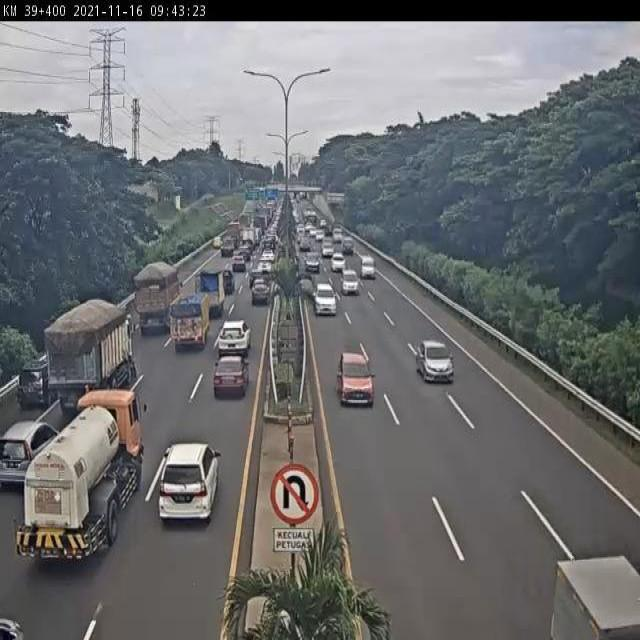car: (540, 536, 640, 640), (156, 439, 225, 525), (0, 403, 58, 489), (10, 344, 64, 417), (204, 348, 253, 408), (208, 317, 254, 373), (337, 350, 375, 410), (414, 340, 457, 388), (245, 276, 275, 316), (310, 276, 339, 317), (0, 598, 23, 640), (340, 263, 362, 301), (355, 252, 381, 284), (219, 264, 240, 296), (246, 267, 267, 293), (301, 248, 323, 272), (229, 251, 248, 276), (330, 251, 348, 276), (206, 231, 226, 252), (257, 260, 275, 281)
small truck: (169, 292, 213, 355), (193, 268, 231, 324)
truck-m-: (12, 387, 156, 582), (32, 297, 141, 428), (124, 262, 192, 338)
